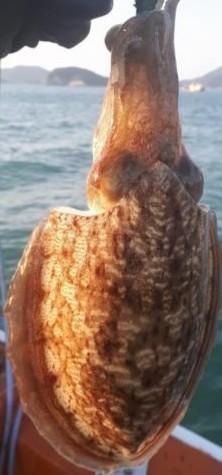Cephalopod: (4, 0, 220, 472)
